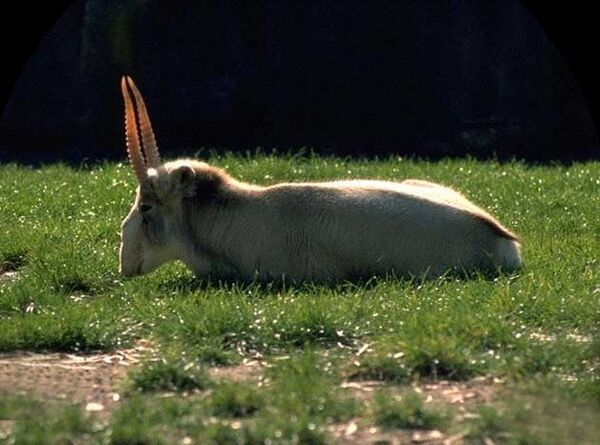saiga: (116, 73, 521, 288)
